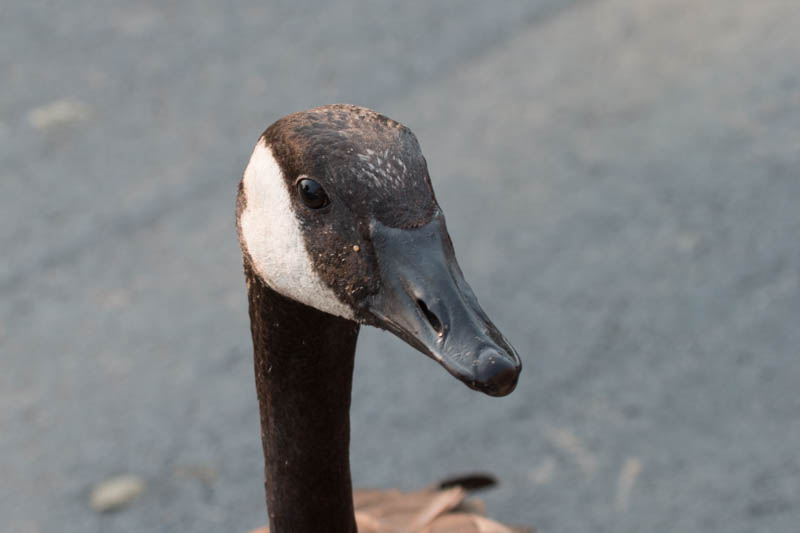goose-head: (235, 102, 522, 397)
